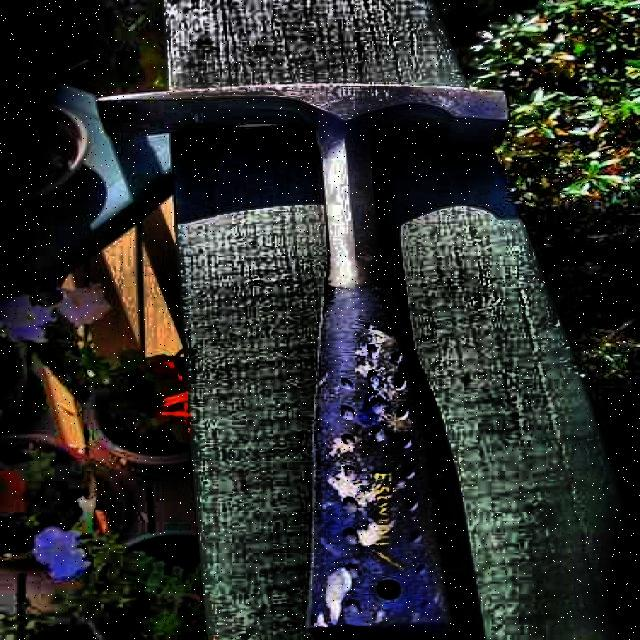hammer: (99, 83, 513, 640)
